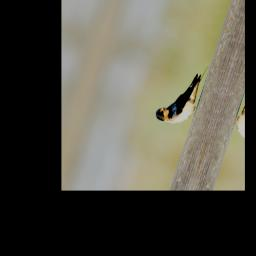Swallow: (153, 57, 213, 129)
